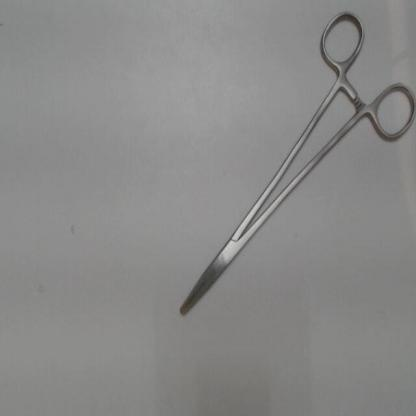8 Mayo Needle Holder: (170, 4, 415, 330)
